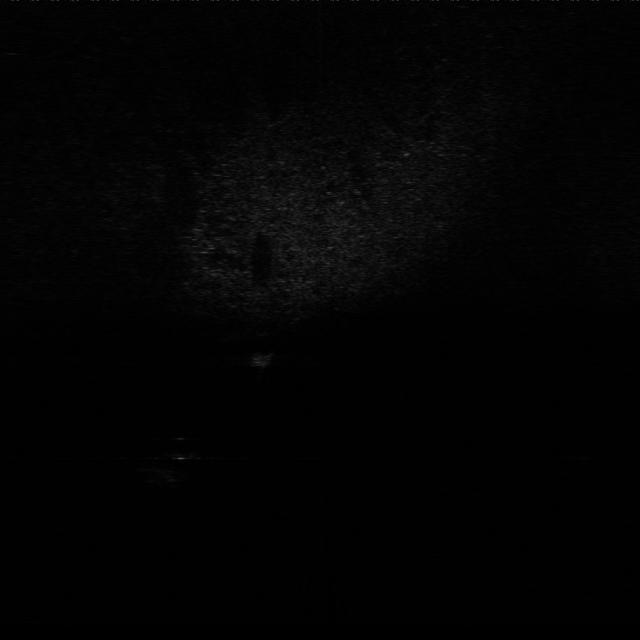ball: (162, 429, 200, 464)
cube: (248, 345, 280, 370)
